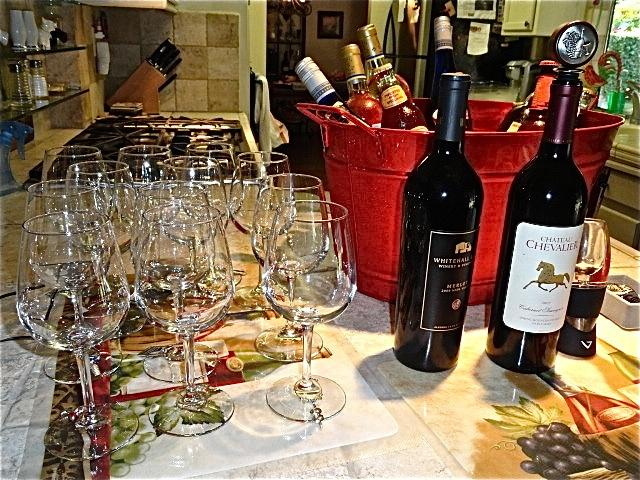grape: (546, 442, 576, 458), (553, 458, 581, 474), (567, 454, 590, 469), (516, 436, 539, 450), (544, 468, 570, 480), (551, 432, 573, 446), (116, 428, 134, 445), (538, 451, 557, 467), (124, 452, 146, 464), (132, 442, 150, 456), (520, 460, 538, 474), (532, 434, 552, 446), (570, 438, 586, 452), (550, 422, 570, 433), (584, 448, 602, 460), (138, 432, 157, 443), (114, 376, 132, 386), (128, 360, 144, 371), (601, 460, 616, 471), (538, 425, 554, 434), (150, 401, 160, 414), (120, 366, 134, 374)
